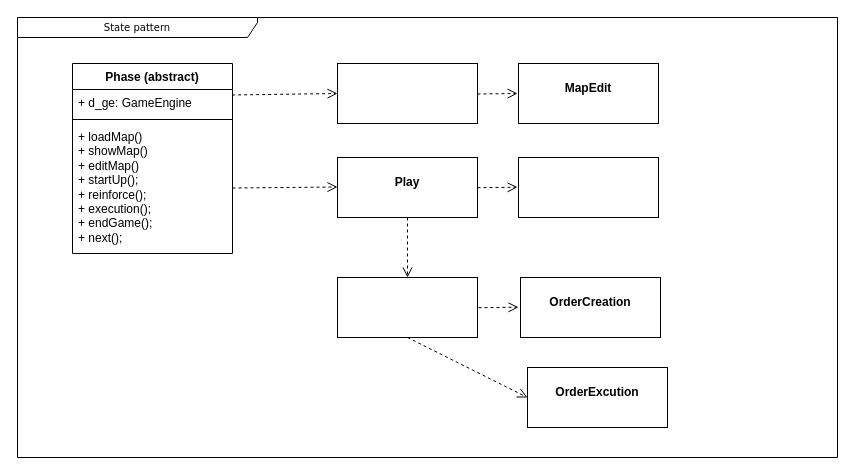
Some shapes in this 855 by 475 pixel diagram are drawn without their labels. Here are the shapes that lost their labels. From the top down, the box of each, then its label:
(336, 62, 478, 124): Edit
(518, 156, 658, 218): StartUp
(336, 276, 478, 338): MainPlay
